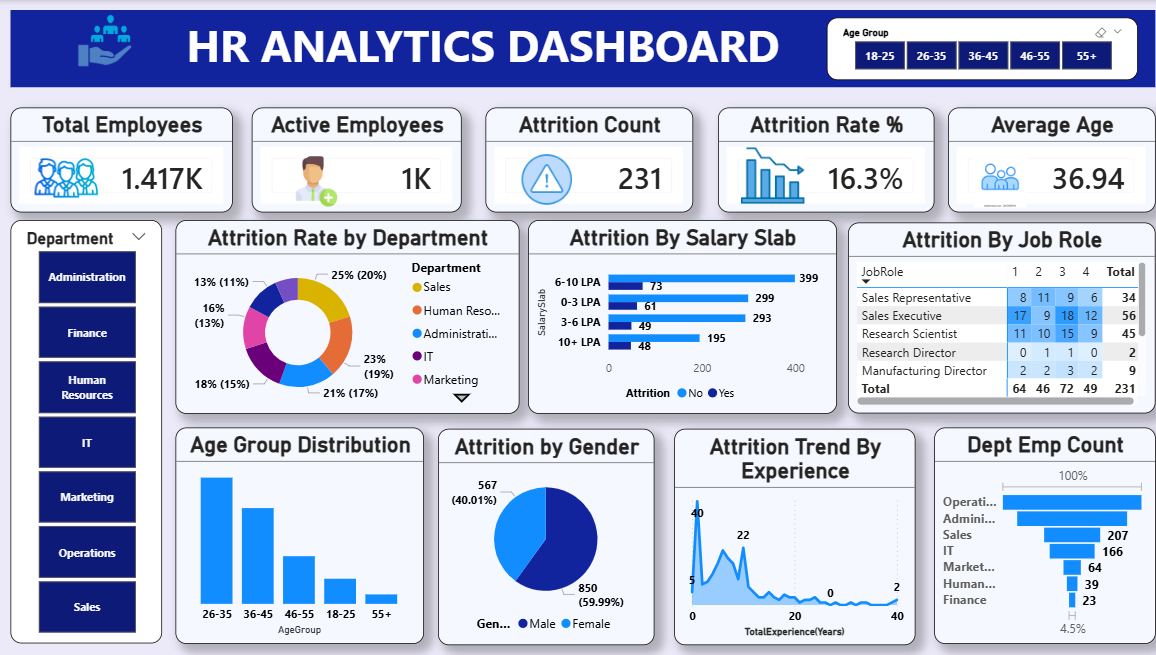

The page's visual inventory and layout, read from the dashboard file:
{"tool":"powerbi","page":{"name":"Page 1","canvas":[1280,720],"ordinal":0},"visuals":[{"type":"textbox","box":[13.7,11,1257,85.1],"z":0},{"type":"cardVisual","title":"Total Employees","fields":{"Data":["CountNonNull(HR_Analytics-4 (3).EmployeeCount)"]},"box":[13.7,118,244.3,115.3],"z":1000},{"type":"cardVisual","title":"Active Employees","fields":{"Data":["Sum(HR_Analytics-4 (3).EmployeeCount)"]},"box":[278.6,118,230.5,115.3],"z":2000},{"type":"cardVisual","title":"Attrition Count","fields":{"Data":["Sum(HR_Analytics-4 (3).AttritionCount)"]},"box":[535.2,118,227.8,115.3],"z":3000},{"type":"cardVisual","title":"Attrition Rate %","fields":{"Data":["HR_Analytics-4 (3).Attrition Rate"]},"box":[790.4,118,237.4,115.3],"z":4000},{"type":"cardVisual","title":"Average Age","fields":{"Data":["Avg(HR_Analytics-4 (3).Age)"]},"box":[1042.9,118,227.8,115.3],"z":5000},{"type":"image","box":[4.1,160.5,141.3,70],"z":6000},{"type":"image","box":[285.4,171.5,129,54.9],"z":7000},{"type":"image","box":[529.7,167.4,145.5,59],"z":8000},{"type":"image","box":[768.4,161.9,164.7,61.7],"z":9000},{"type":"image","box":[1042.9,164.7,113.9,63.1],"z":10000},{"type":"donutChart","fields":{"Category":["HR_Analytics-4 (3).Department"],"Y":["HR_Analytics-4 (3).Attrition Rate"]},"box":[194.9,241.5,377.4,212.7],"z":11000},{"type":"clusteredBarChart","title":"Attrition By Salary Slab","fields":{"Category":["HR_Analytics-4 (3).SalarySlab"],"Y":["CountNonNull(HR_Analytics-4 (3).EmpID)"],"Series":["HR_Analytics-4 (3).Attrition"]},"box":[581.8,241.5,338.9,212.7],"z":12000},{"type":"columnChart","title":"Age Group Distribution","fields":{"Category":["HR_Analytics-4 (3).AgeGroup"],"Y":["CountNonNull(HR_Analytics-4 (3).Attrition)"]},"box":[194.9,469.3,273.1,237.4],"z":13000},{"type":"pieChart","title":"Attrition by Gender","fields":{"Category":["HR_Analytics-4 (3).Gender"],"Y":["CountNonNull(HR_Analytics-4 (3).Attrition)"]},"box":[483,470.7,237.4,237.4],"z":13001},{"type":"areaChart","title":"Attrition Trend By Experience","fields":{"Category":["HR_Analytics-4 (3).TotalExperience(Years)"],"Y":["Sum(HR_Analytics-4 (3).AttritionCount)"]},"box":[742.4,470.7,264.8,237.4],"z":13002},{"type":"pivotTable","title":"Attrition By Job Role","fields":{"Rows":["HR_Analytics-4 (3).JobRole"],"Values":["Sum(HR_Analytics-4 (3).AttritionCount)"],"Columns":["HR_Analytics-4 (3).JobSatisfaction"]},"box":[933.1,244.3,337.6,209.9],"z":13003},{"type":"funnel","title":"Dept  Emp Count","fields":{"Category":["HR_Analytics-4 (3).Department"],"Y":["CountNonNull(HR_Analytics-4 (3).EmpID)"]},"box":[1027.8,469.3,242.9,237.4],"z":13004},{"type":"slicer","fields":{"Values":["HR_Analytics-4 (3).Department"]},"box":[13.7,241.5,166,465.2],"z":13005},{"type":"slicer","fields":{"Values":["HR_Analytics-4 (3).AgeGroup"]},"box":[909.8,19.2,341.7,68.6],"z":13006},{"type":"image","box":[13.7,11,207.2,67.2],"z":13007}]}

Visuals, with their boxes in screenshot pixels (x1, y1, x2, y2), scaled from the page's 1280x720 canvas onto the 1156x655 screenshot:
textbox: x1=12 y1=10 x2=1148 y2=87
"Total Employees" cardVisual: x1=12 y1=107 x2=233 y2=212
"Active Employees" cardVisual: x1=252 y1=107 x2=460 y2=212
"Attrition Count" cardVisual: x1=483 y1=107 x2=689 y2=212
"Attrition Rate %" cardVisual: x1=714 y1=107 x2=928 y2=212
"Average Age" cardVisual: x1=942 y1=107 x2=1148 y2=212
image: x1=4 y1=146 x2=131 y2=210
image: x1=258 y1=156 x2=374 y2=206
image: x1=478 y1=152 x2=610 y2=206
image: x1=694 y1=147 x2=843 y2=203
image: x1=942 y1=150 x2=1045 y2=207
donutChart - HR_Analytics-4 (3).Department x HR_Analytics-4 (3).Attrition Rate: x1=176 y1=220 x2=517 y2=413
"Attrition By Salary Slab" clusteredBarChart: x1=525 y1=220 x2=832 y2=413
"Age Group Distribution" columnChart: x1=176 y1=427 x2=423 y2=643
"Attrition by Gender" pieChart: x1=436 y1=428 x2=651 y2=644
"Attrition Trend By Experience" areaChart: x1=670 y1=428 x2=910 y2=644
"Attrition By Job Role" pivotTable: x1=843 y1=222 x2=1148 y2=413
"Dept  Emp Count" funnel: x1=928 y1=427 x2=1148 y2=643
slicer - HR_Analytics-4 (3).Department: x1=12 y1=220 x2=162 y2=643
slicer - HR_Analytics-4 (3).AgeGroup: x1=822 y1=17 x2=1130 y2=80
image: x1=12 y1=10 x2=200 y2=71
